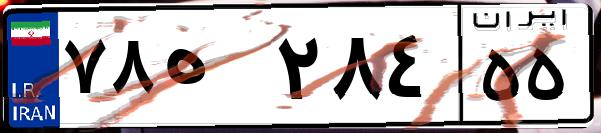2: (270, 28, 330, 110)
4: (385, 28, 445, 110)
5: (475, 38, 525, 113), (525, 38, 570, 115)
7: (57, 26, 110, 100)
8: (330, 28, 385, 110), (110, 28, 158, 98)
ه: (158, 20, 270, 120)
